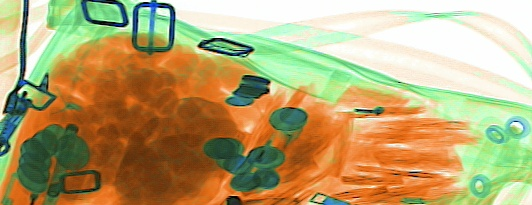lighter: (220, 104, 306, 200)
